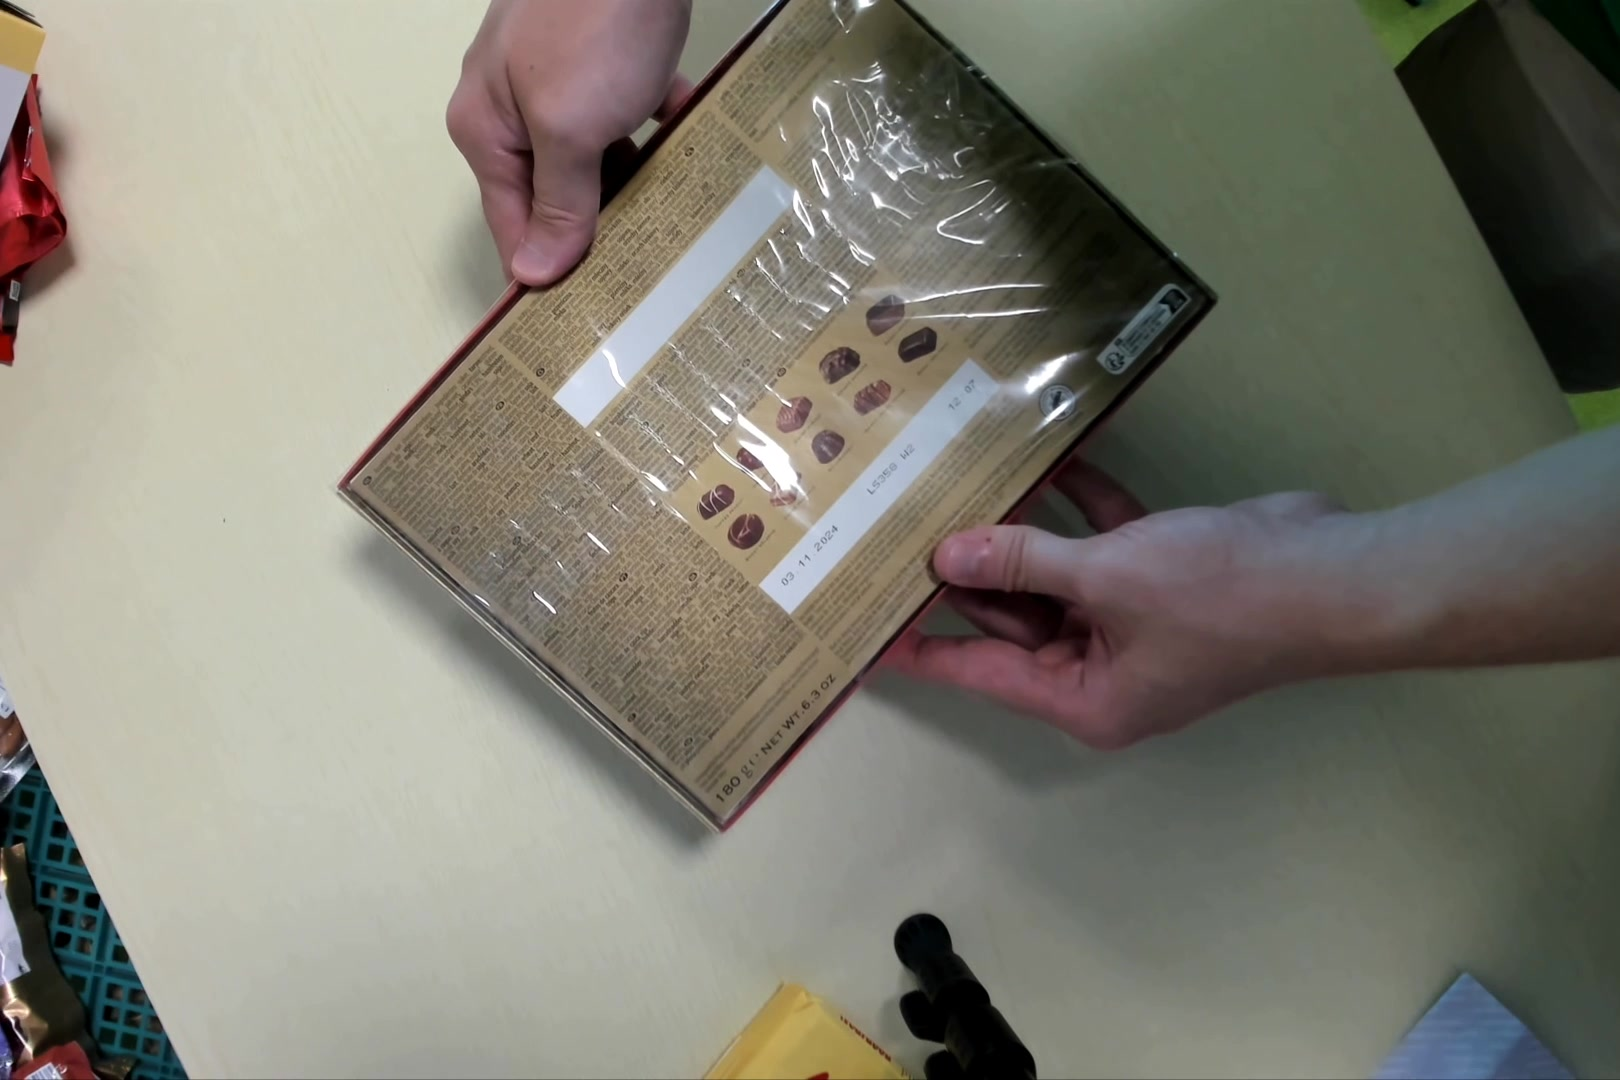SweetsChocolatesOthers_100-199g_NonHalal_NonHealthy: (340, 6, 1223, 844)
